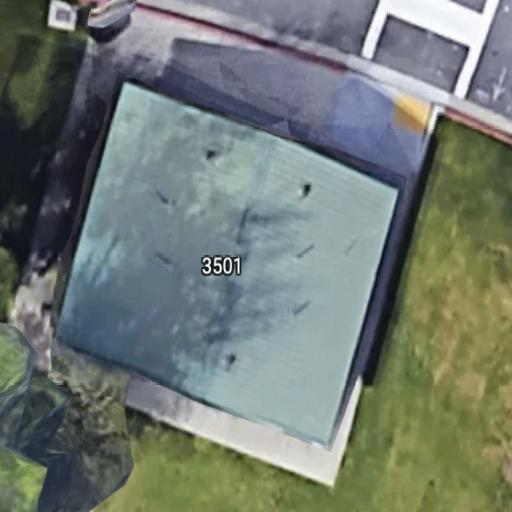Slope-Roof: (54, 80, 398, 453)
